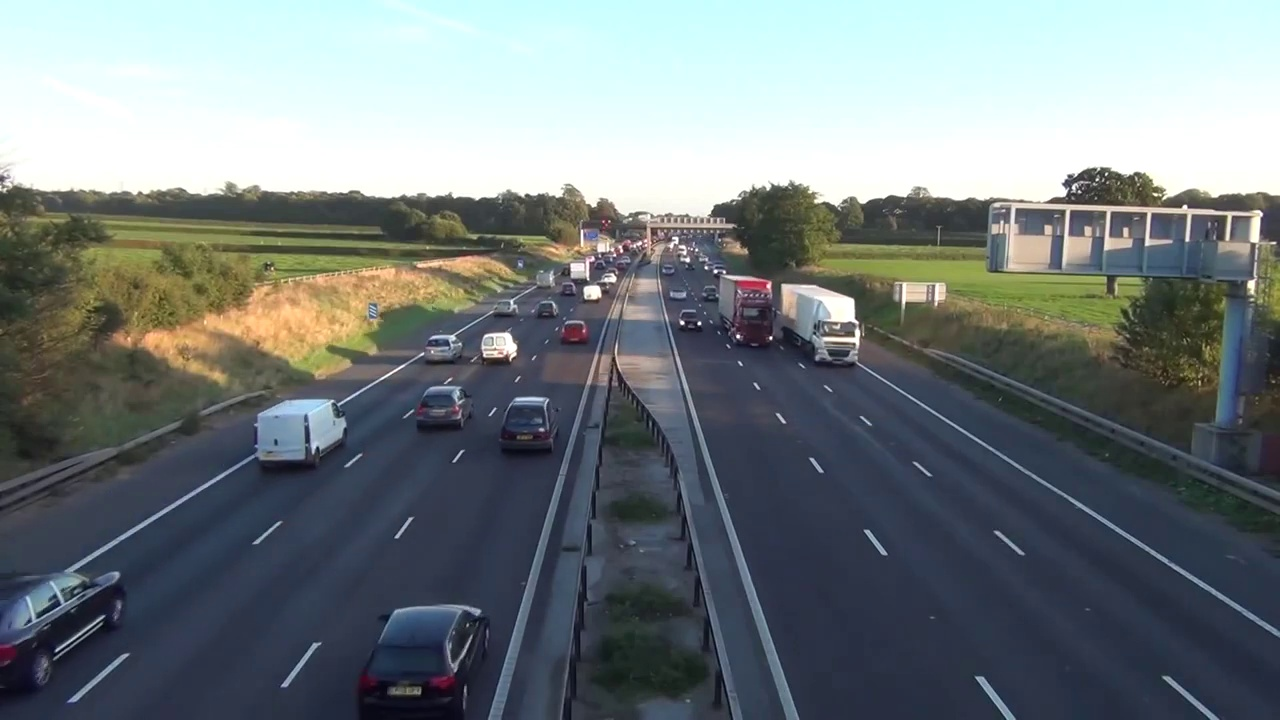bus: (0, 570, 126, 700), (360, 605, 491, 720), (501, 395, 562, 458), (414, 385, 474, 429), (422, 335, 462, 361), (561, 320, 589, 343), (679, 309, 702, 331), (494, 300, 517, 317), (536, 301, 559, 318), (702, 285, 719, 301), (669, 288, 686, 301), (561, 283, 577, 295)
car: (780, 284, 866, 367), (719, 275, 774, 345), (569, 260, 589, 283)
lorry: (255, 399, 349, 469), (480, 332, 519, 363), (583, 286, 601, 302)
